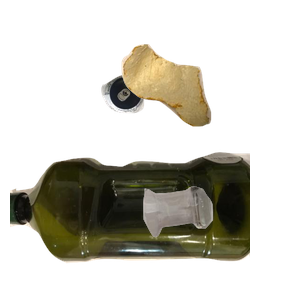glass: (141, 184, 300, 300)
metal: (99, 70, 236, 176)
plastic: (10, 149, 250, 300)
trash: (119, 42, 300, 161)
